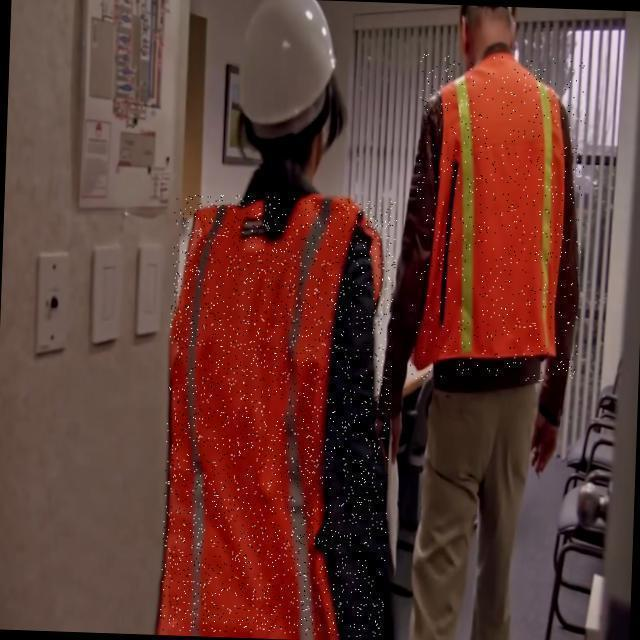safety_helmet: (178, 219, 498, 413)
